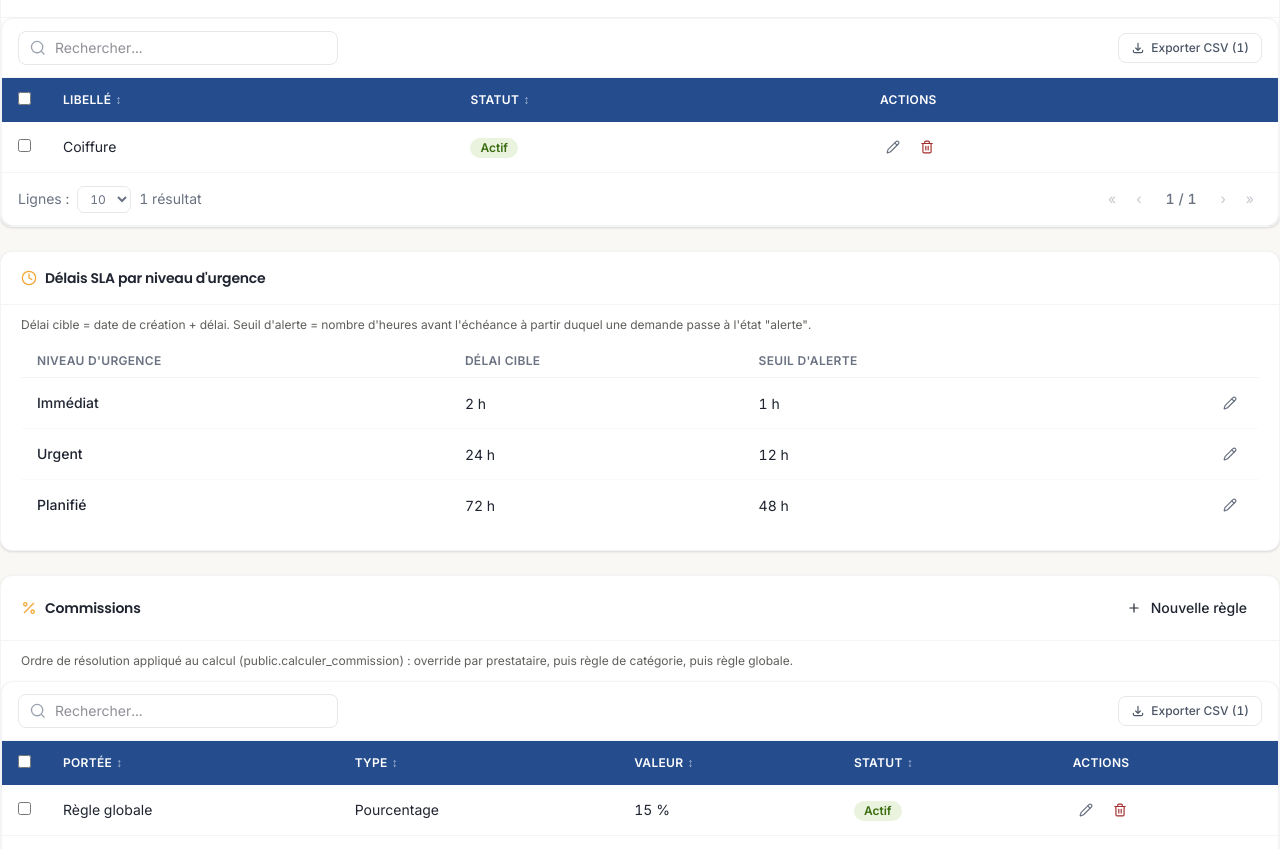
Test: ParametresMetier — categories_services / sla_config / commission_config › crée une règle de commission de catégorie
The image size is (1280, 849).
Expected: the heading "Commissions" is shown, [45,598,141,618]
Click the button "Nouvelle règle".
click(1187, 608)  # box [1115,592,1259,624]
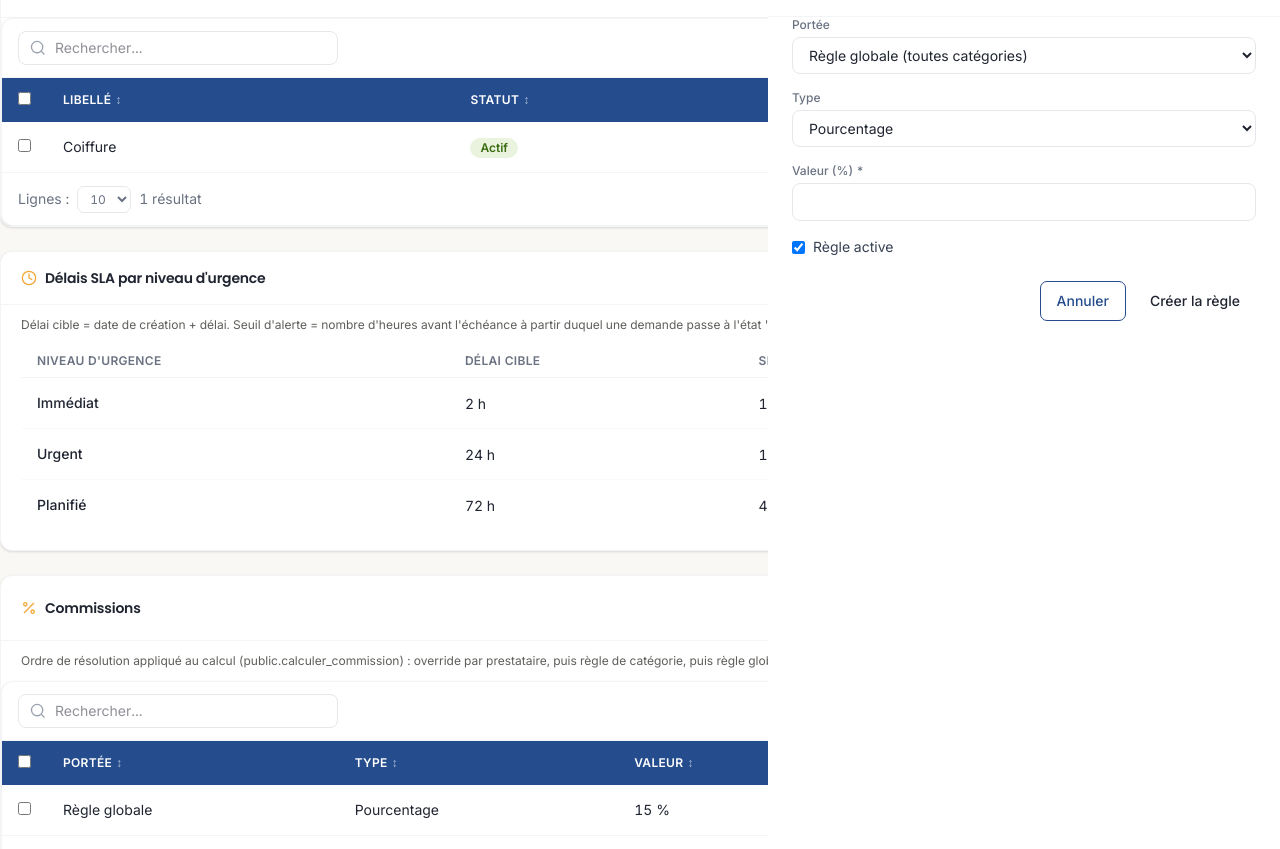
Select "Coiffure" in the 1st dropdown at (1024, 56), box [792,37,1256,74]
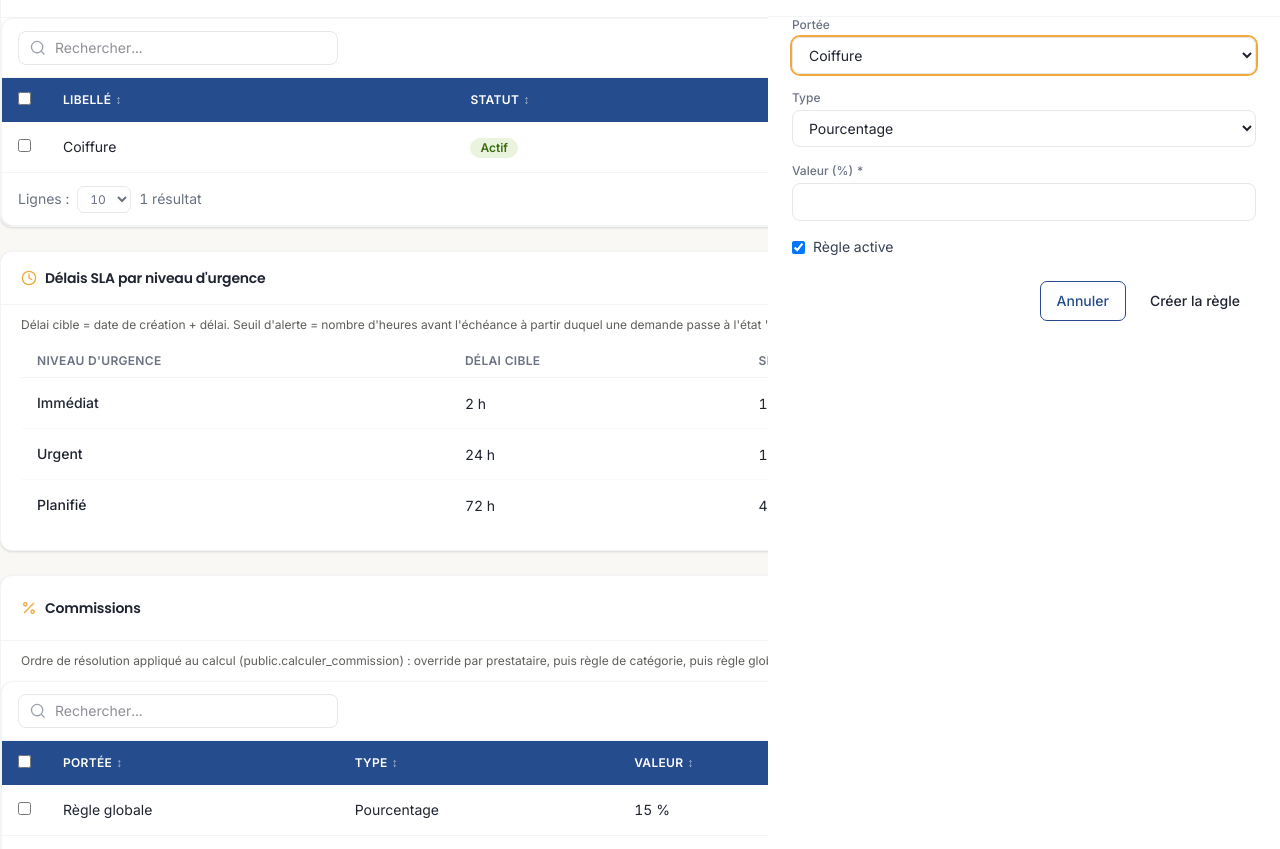
Type "20" into the number field labelled "Valeur (%) *".
click(1024, 202); type("20")  # box [792,183,1256,221]
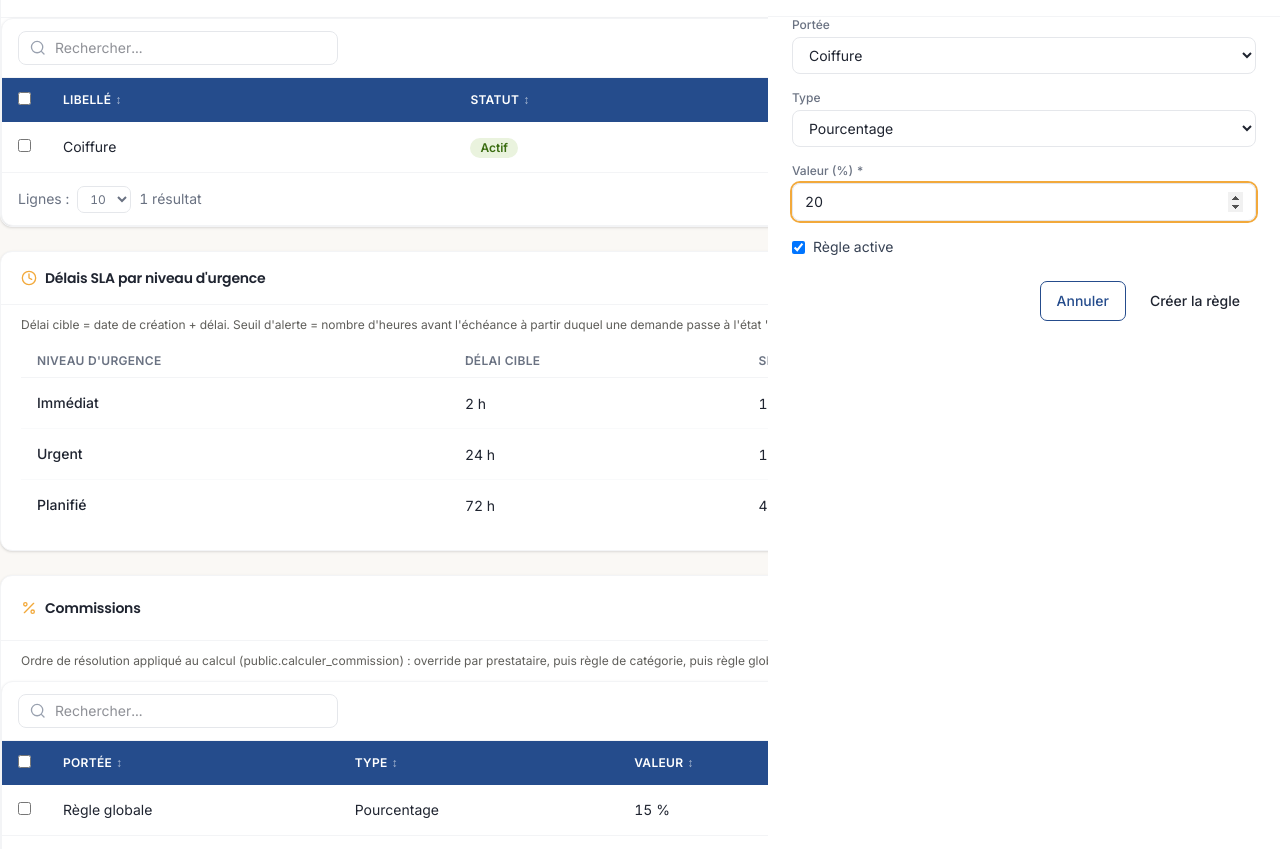
Click the button "Créer la règle".
click(1195, 301)  # box [1134,281,1256,321]
(page scrolled)
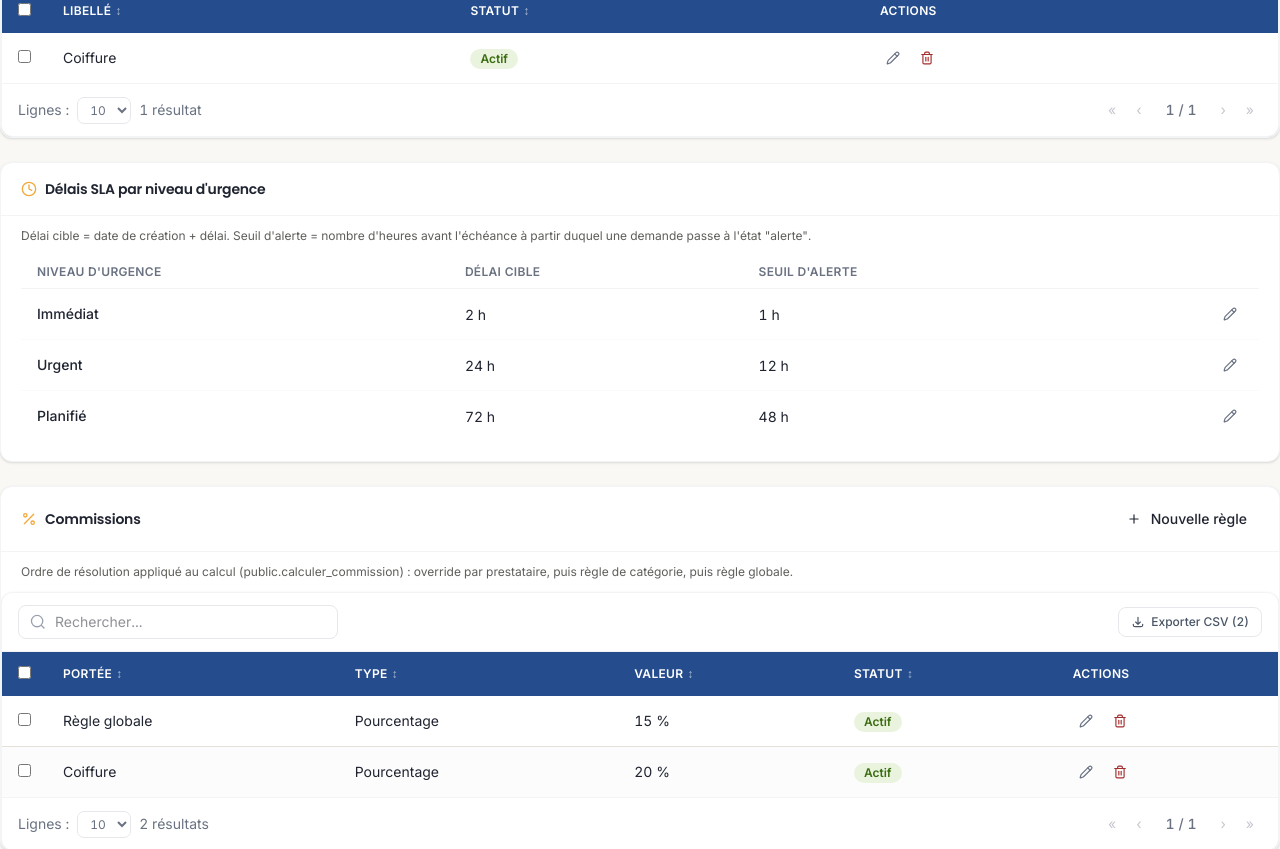
Result: the text "20 %" is shown at [618,746,838,797]
